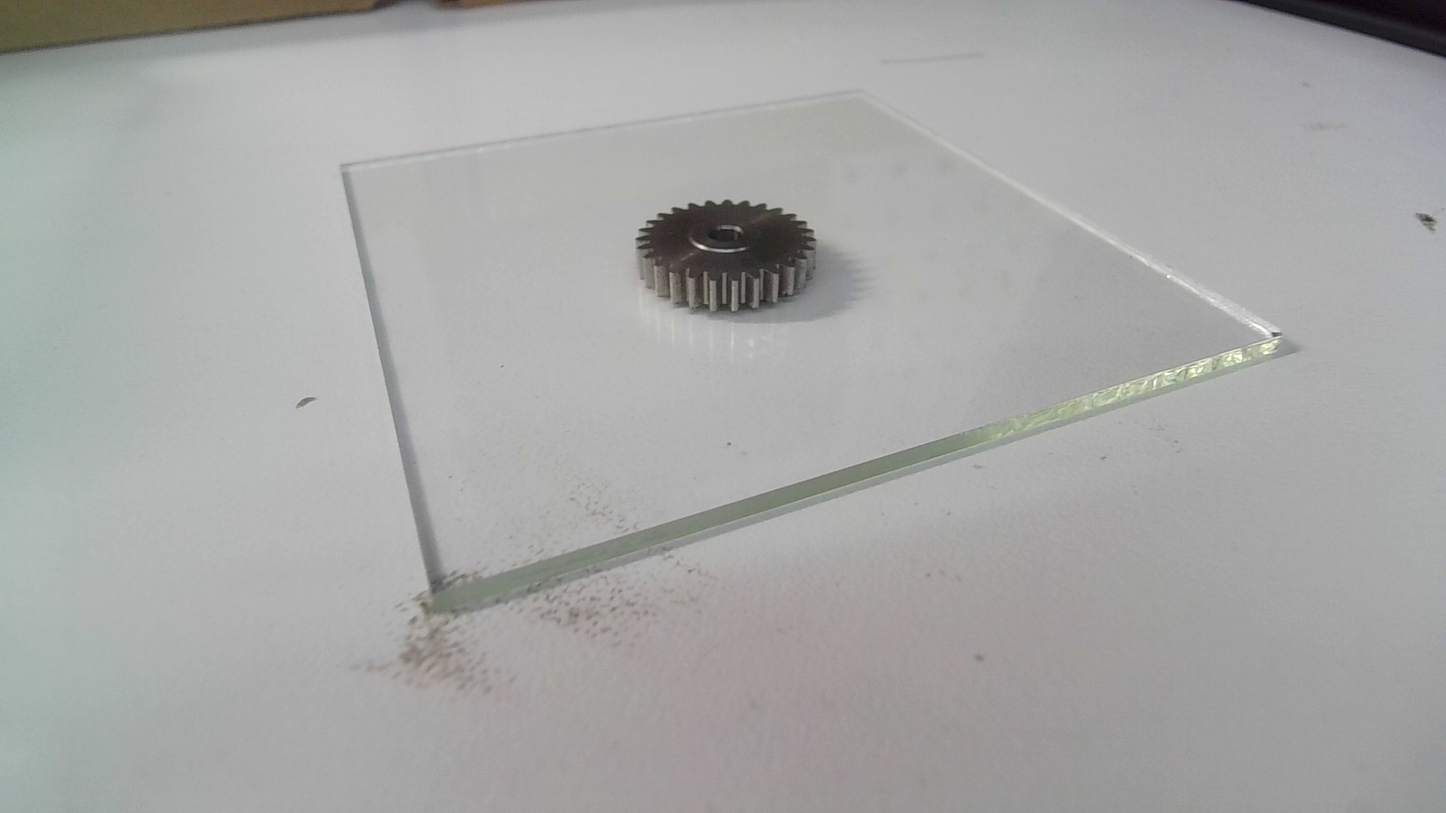gear: (633, 195, 821, 316)
